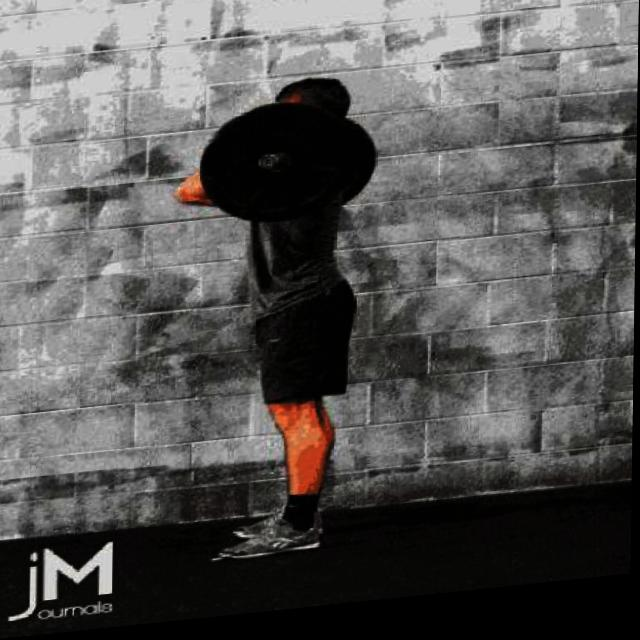barbell: (196, 102, 358, 239)
